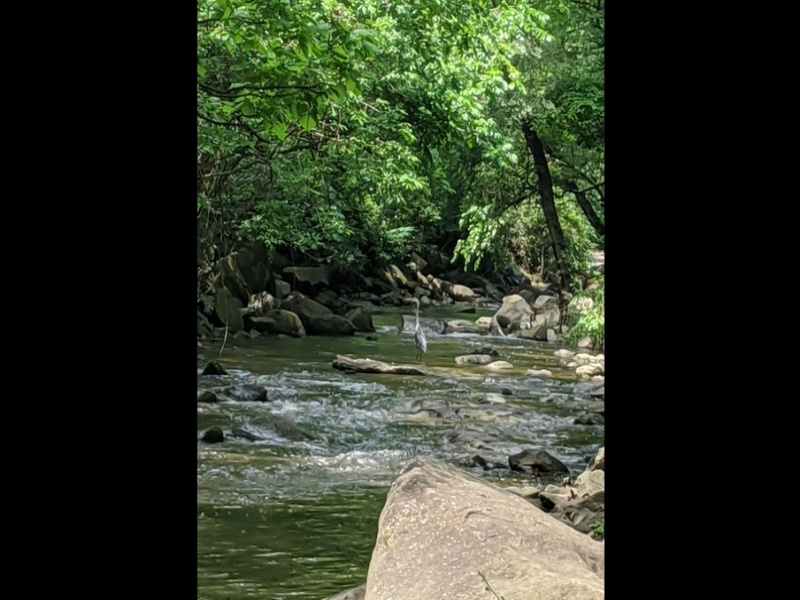heron: (402, 292, 431, 357)
